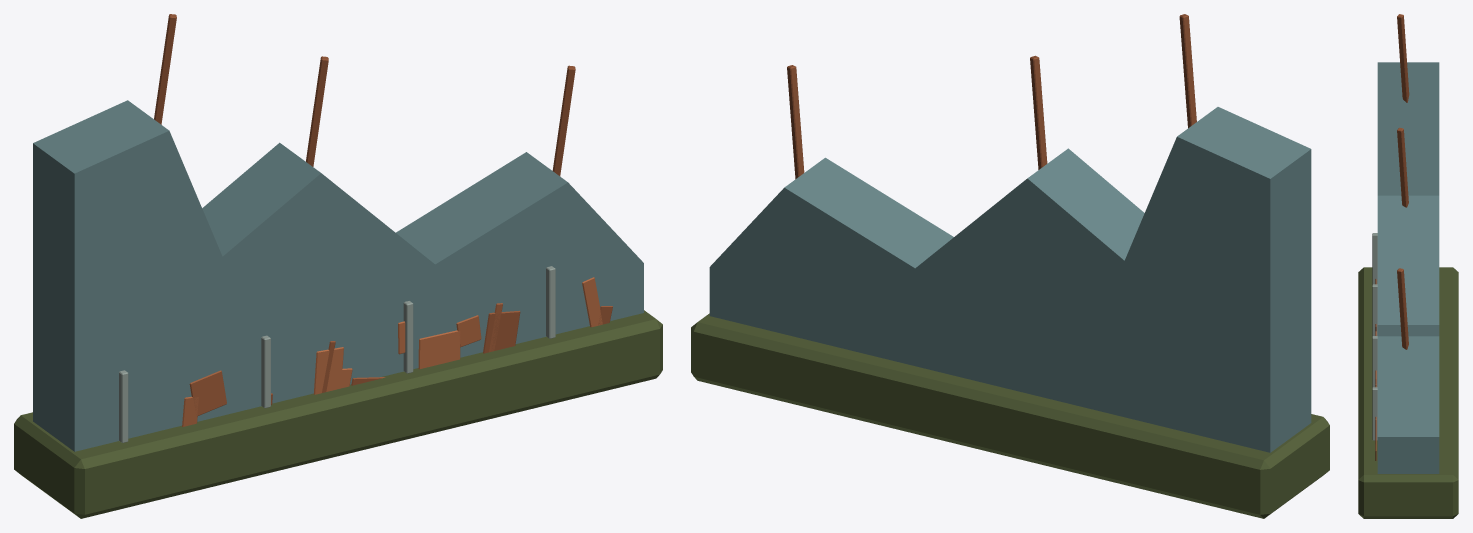
The model's file is Wall_Broken_Low.glb.
3 renders of one model, left to right at view 1: azimuth 30°, elevation 25°; view 2: azimuth 150°, elevation 25°; view 3: azimuth 270°, elevation 25°, orthographic. The views are drawn at different scales.
Visible parts, largest first — view 1: Wall_Broken_Low; view 2: Wall_Broken_Low; view 3: Wall_Broken_Low.
Boxes of the visible parts, x1,y1,x2,y2 form: Wall_Broken_Low: [14, 14, 662, 518]; Wall_Broken_Low: [691, 14, 1329, 518]; Wall_Broken_Low: [1358, 14, 1458, 518].
Bounding box in the file's own units: 3.1 × 2.3 × 0.62.
7 materials, 1 textured.
